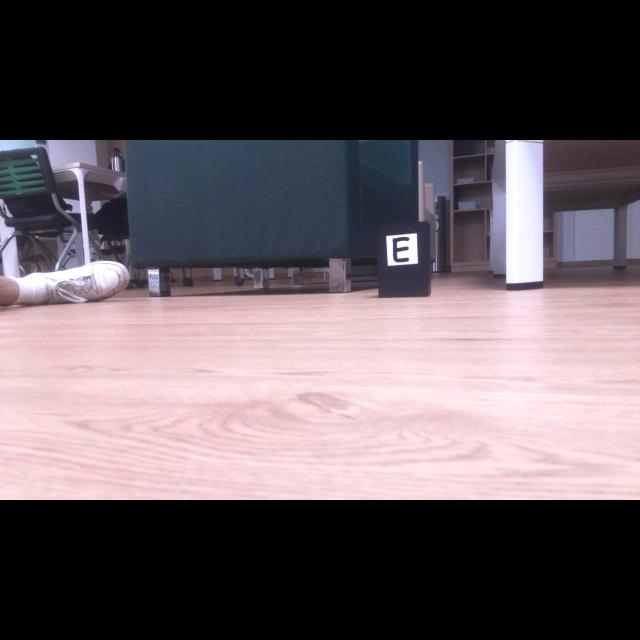E: (393, 237, 409, 262)
